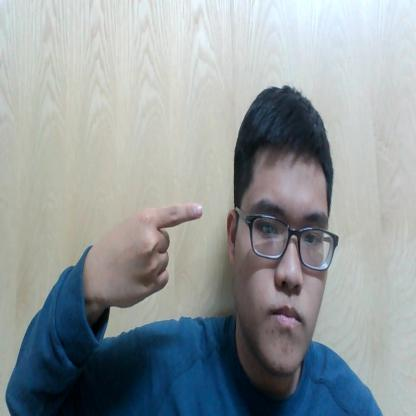left: (95, 195, 204, 326)
